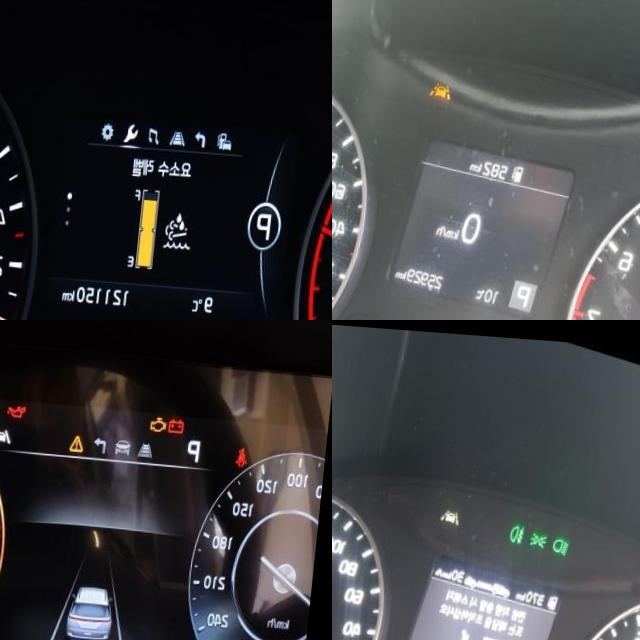Central Warning lamp: (76, 428, 92, 447)
FrontFogLight: (513, 516, 533, 540)
LaneCenteringOff: (433, 76, 459, 97), (444, 502, 467, 522), (0, 422, 18, 438)
Low beam: (557, 530, 576, 550)
SideLamp: (534, 524, 555, 543)
